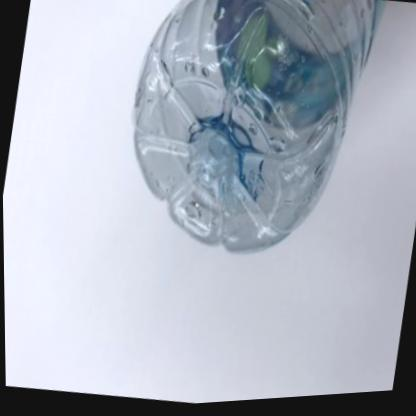Plastic: (133, 0, 387, 256)
